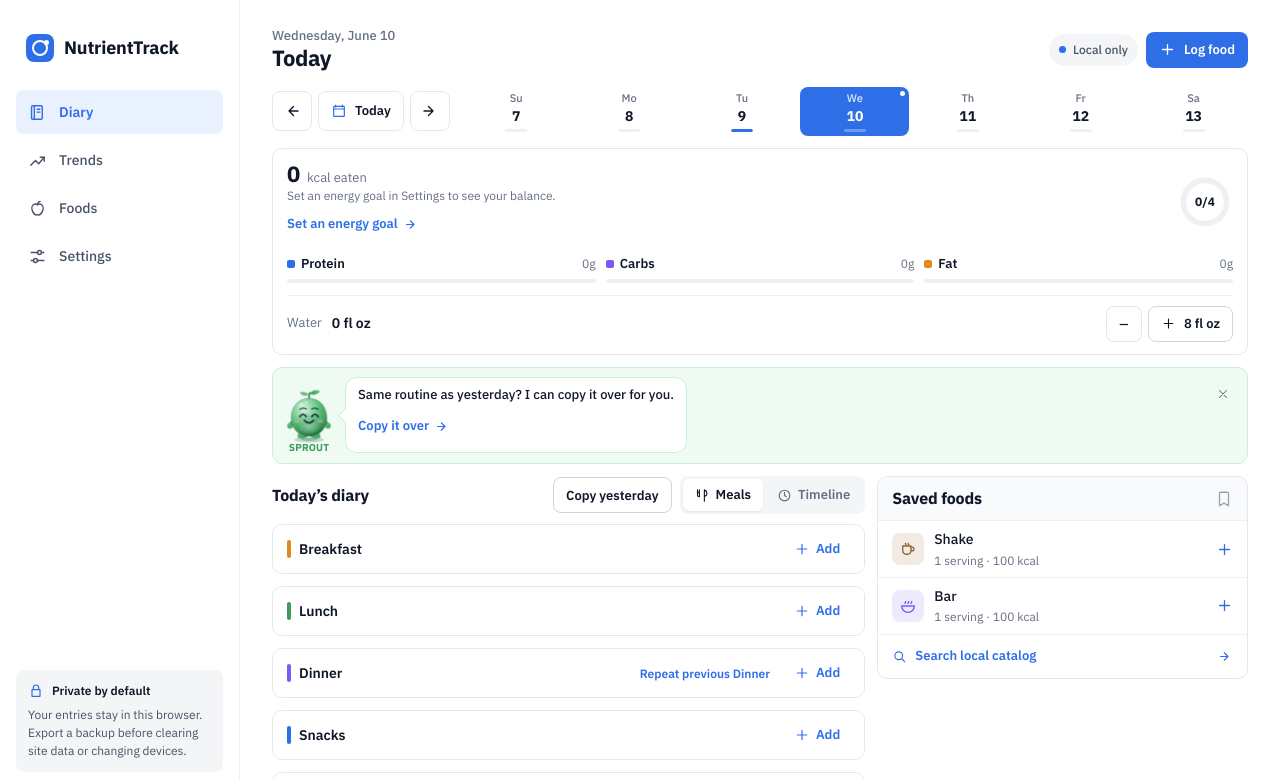
it: Log food library tabs › defaults to Recent and shows count badges only when above zero
What coordinates should you click on to do the following:
click the button "Log food"
I would click on:
 (1197, 50)
Its box is [1146, 32, 1248, 68].
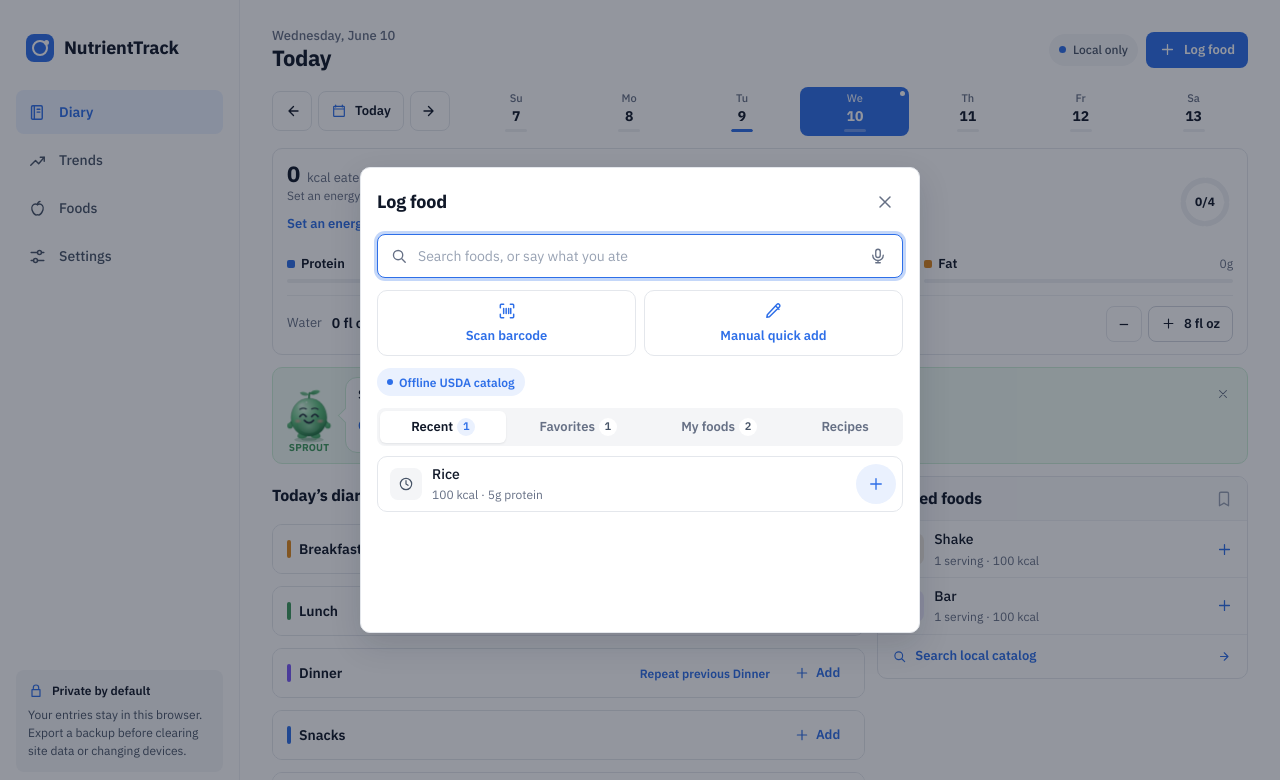
Now the element named "Your foods" is shown, box [377, 408, 903, 446]
Now the tab "Recent 1" is shown, box [380, 411, 506, 443]
Now the tab "Favorites 1" is shown, box [508, 411, 648, 443]
